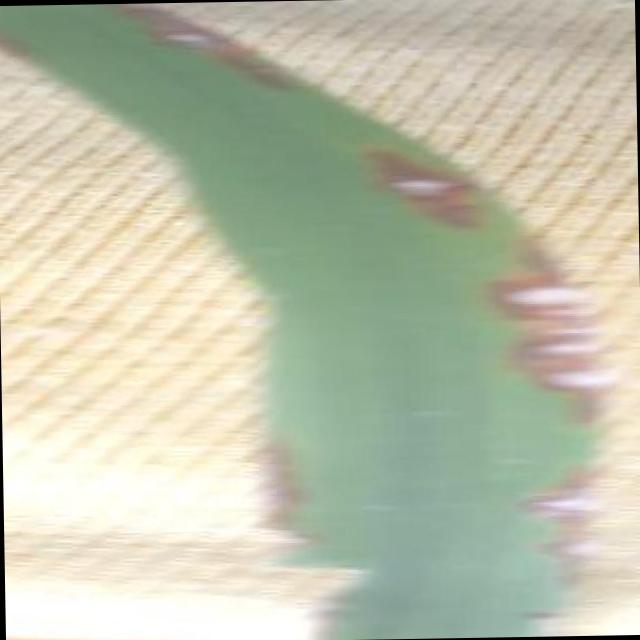Rice_Blast: (115, 0, 304, 104), (369, 127, 506, 253), (460, 254, 600, 322), (502, 349, 620, 406), (484, 317, 614, 366), (512, 477, 602, 541), (524, 518, 623, 570)
